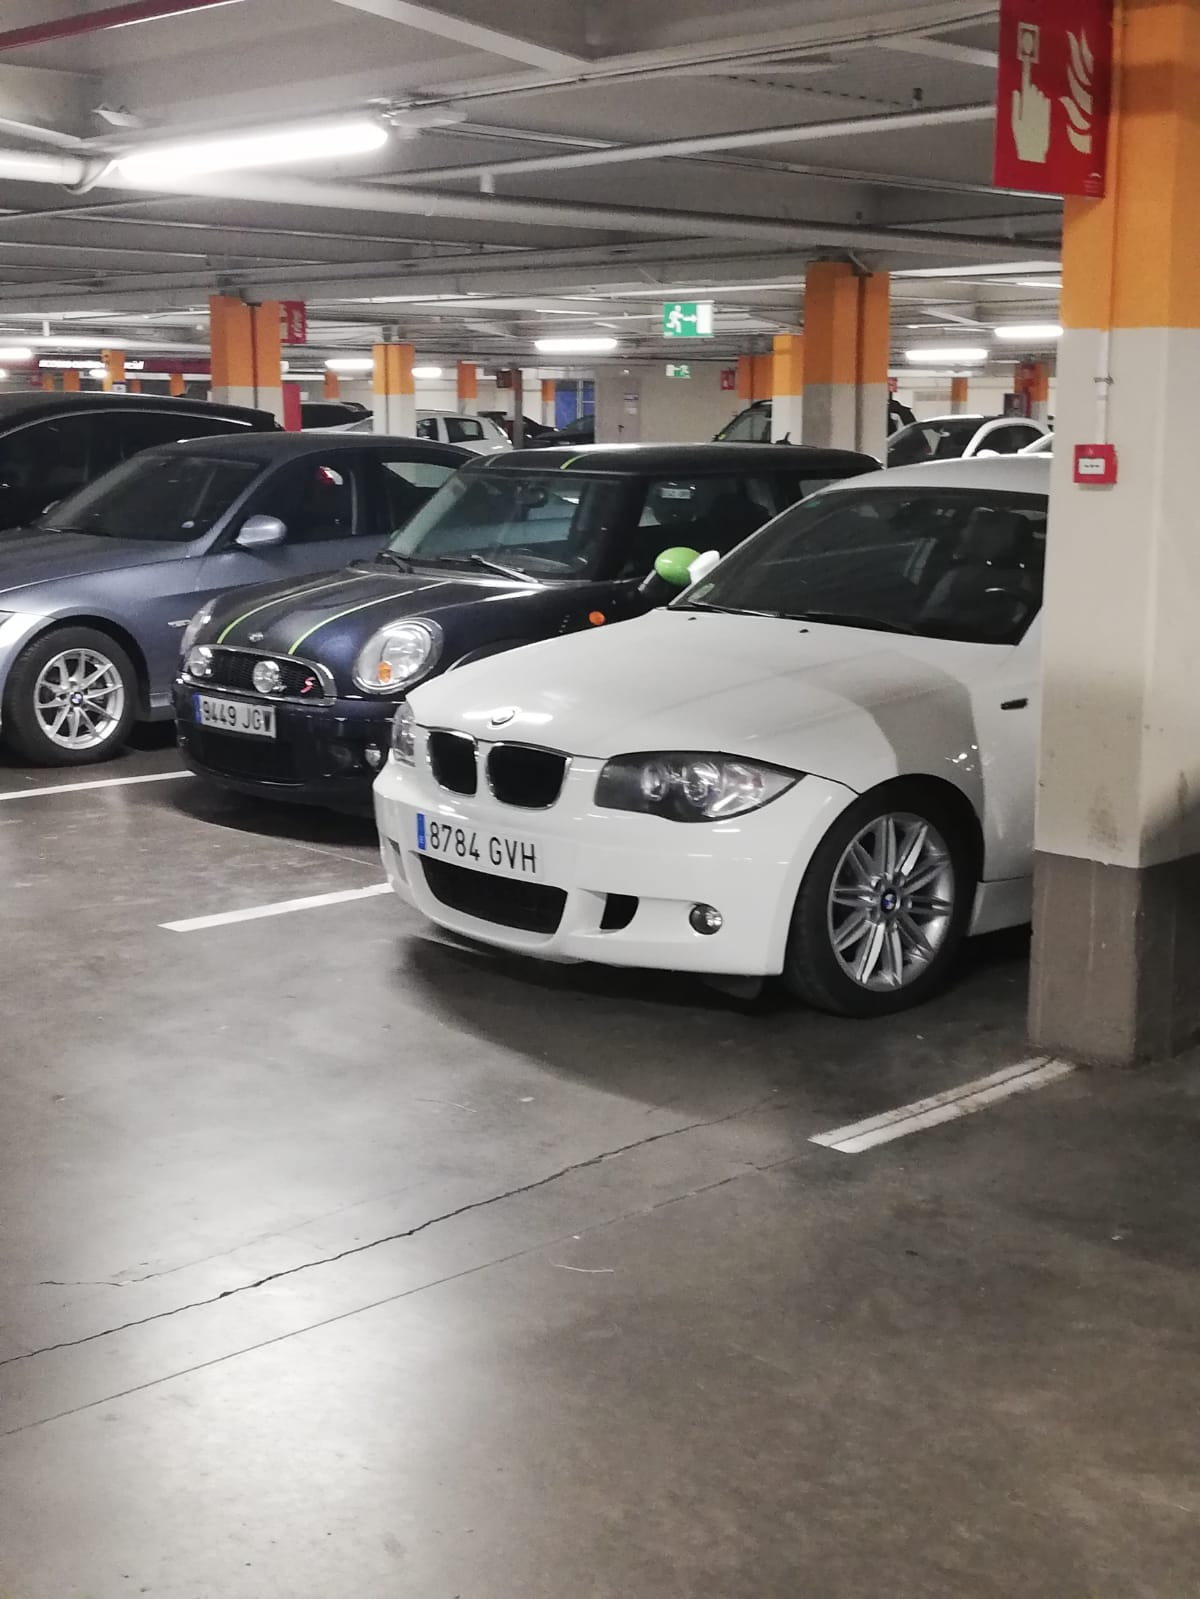Car: (371, 455, 1032, 1018)
Plate: (421, 810, 544, 856), (192, 693, 278, 724)
